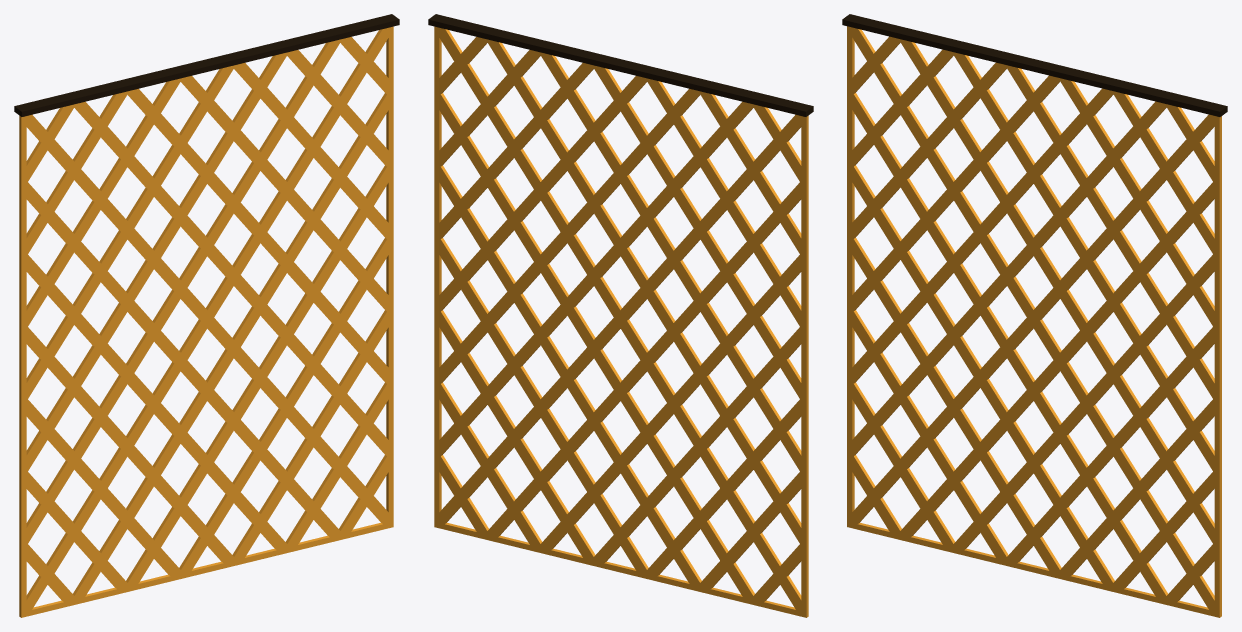
The model's file is Reja_A.fbx.
3 views of the same model, side by side, from view 1: azimuth 30°, elevation 25°; view 2: azimuth 150°, elevation 25°; view 3: azimuth 330°, elevation 25° (orthographic).
Visible parts, largest first — view 1: Reja_A; view 2: Reja_A; view 3: Reja_A.
Boxes of the visible parts, box(x1,y1,x2,y2) form: Reja_A: box(14, 14, 399, 617); Reja_A: box(428, 14, 813, 617); Reja_A: box(842, 14, 1227, 617).
Size of the model in its own units: 5.07 by 6.53 by 0.1771.
